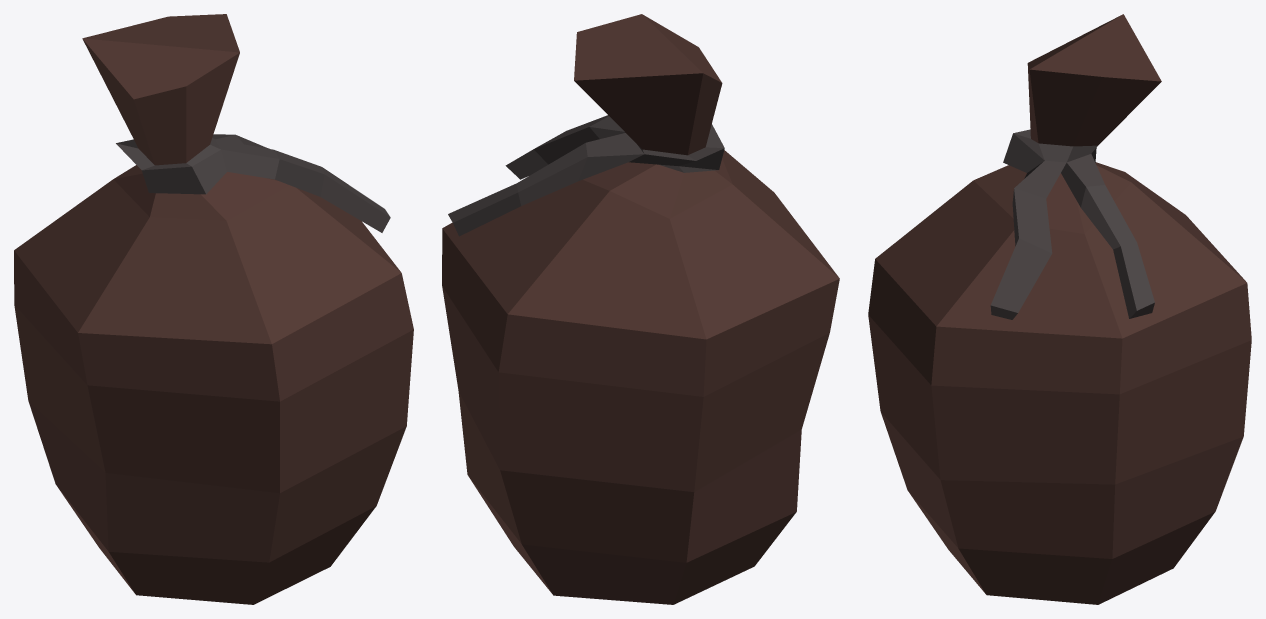
Rendered from SacoDeSuprimentos.fbx.
The picture shows the model from 3 angles, left to right: view 1: azimuth 30°, elevation 25°; view 2: azimuth 150°, elevation 25°; view 3: azimuth 270°, elevation 25°; orthographic projection. The views are drawn at different scales.
Parts seen in each view (by area): view 1: SacoSuprimentos; view 2: SacoSuprimentos; view 3: SacoSuprimentos.
Boxes of the visible parts, x1,y1,x2,y2 form: SacoSuprimentos: [14, 14, 413, 604]; SacoSuprimentos: [442, 14, 839, 604]; SacoSuprimentos: [868, 14, 1251, 604].
Size of the model in its own units: 47.94 by 73.14 by 51.04.
